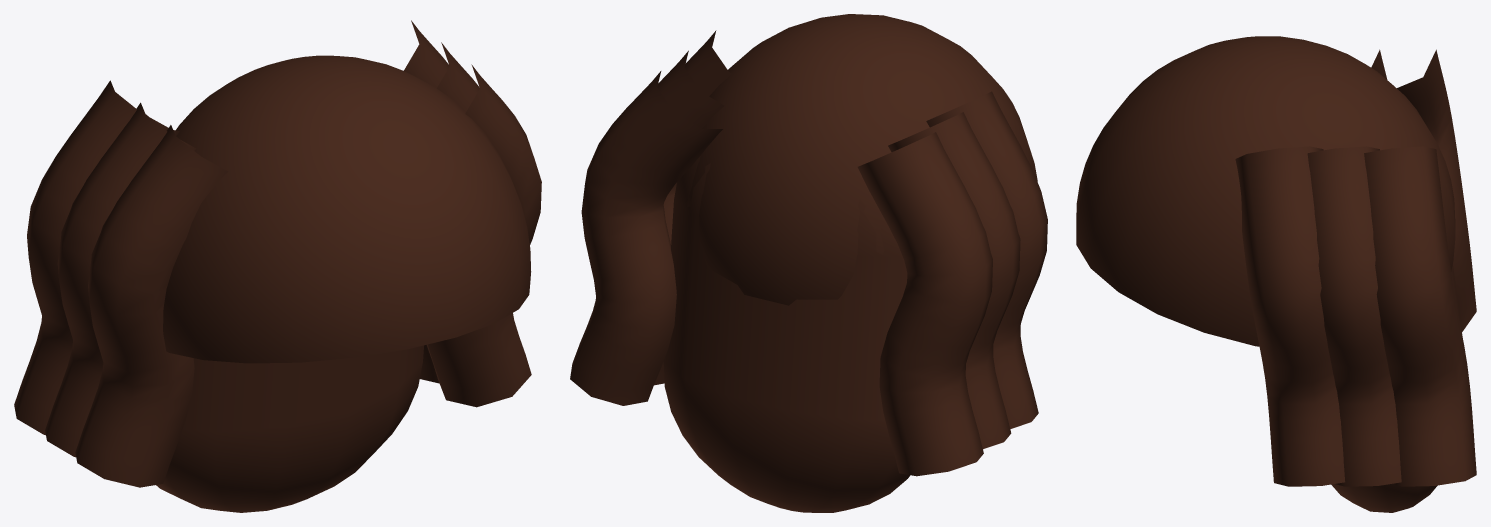
File: wavy.glb
3 renders of one model, left to right at view 1: azimuth 30°, elevation 25°; view 2: azimuth 150°, elevation 25°; view 3: azimuth 270°, elevation 25°, orthographic. The views are drawn at different scales.
Visible parts, largest first — view 1: hair_cap, wave_back, wave_-1_0, wave_-1_2, wave_-1_1, wave_1_0, wave_1_1, wave_1_2; view 2: hair_cap, wave_back, wave_-1_2, wave_1_2, wave_-1_0, wave_-1_1, wave_1_1, wave_1_0; view 3: hair_cap, wave_1_2, wave_1_0, wave_1_1, wave_-1_2, wave_back.
Boxes of the visible parts, left/top/right/bottom form: hair_cap: left=163, top=55, right=531, bottom=363; wave_back: left=156, top=345, right=423, bottom=512; wave_-1_0: left=75, top=125, right=227, bottom=487; wave_-1_2: left=14, top=80, right=179, bottom=435; wave_-1_1: left=45, top=102, right=196, bottom=457; wave_1_0: left=427, top=64, right=541, bottom=407; wave_1_1: left=420, top=42, right=479, bottom=383; wave_1_2: left=404, top=20, right=449, bottom=88; hair_cap: left=687, top=14, right=1037, bottom=305; wave_back: left=663, top=156, right=909, bottom=512; wave_-1_2: left=857, top=132, right=992, bottom=476; wave_1_2: left=570, top=71, right=722, bottom=405; wave_-1_0: left=926, top=91, right=1047, bottom=428; wave_-1_1: left=888, top=112, right=1020, bottom=449; wave_1_1: left=654, top=50, right=724, bottom=385; wave_1_0: left=684, top=30, right=731, bottom=96; hair_cap: left=1076, top=36, right=1455, bottom=346; wave_1_2: left=1364, top=146, right=1476, bottom=486; wave_1_0: left=1235, top=146, right=1345, bottom=486; wave_1_1: left=1307, top=146, right=1401, bottom=486; wave_-1_2: left=1397, top=49, right=1476, bottom=331; wave_back: left=1331, top=264, right=1462, bottom=512.
Size of the model in its own units: 0.2977 by 0.3036 by 0.2483.
